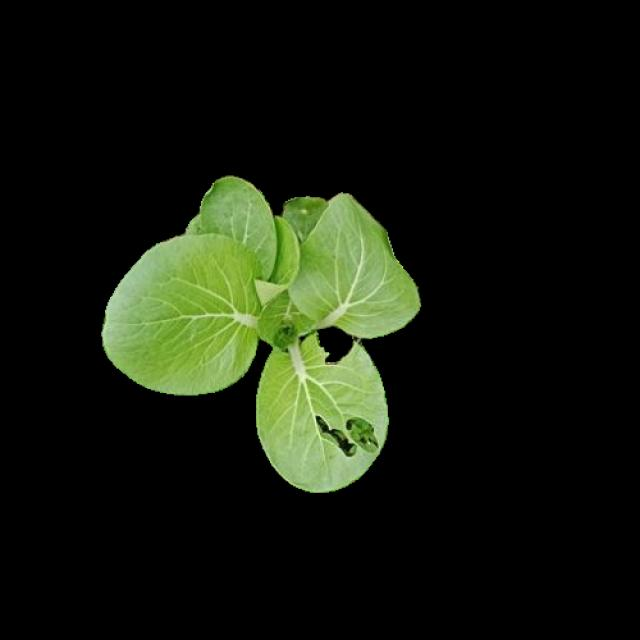not-mature: (102, 179, 416, 494)
unhealthy: (256, 338, 387, 494), (286, 195, 326, 238)
